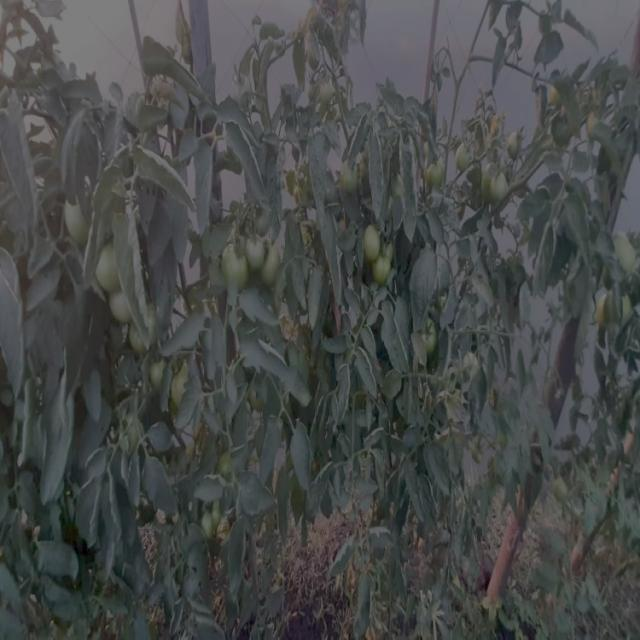tomato: (59, 184, 93, 251), (92, 242, 127, 291), (335, 158, 370, 205), (595, 289, 637, 327), (609, 227, 640, 278), (212, 239, 242, 290), (114, 410, 147, 455), (106, 286, 139, 325), (171, 363, 197, 411), (420, 146, 450, 186), (415, 315, 445, 355), (483, 163, 512, 203), (247, 378, 273, 417), (371, 255, 399, 291), (538, 77, 567, 110), (313, 73, 343, 103), (197, 501, 219, 541), (246, 200, 273, 232), (581, 110, 607, 142), (550, 472, 574, 505), (454, 137, 479, 168), (358, 221, 379, 256), (218, 444, 240, 477), (464, 353, 485, 387), (247, 238, 266, 273), (266, 248, 283, 286), (507, 131, 530, 159), (150, 356, 169, 389), (129, 329, 151, 353), (552, 121, 573, 144)
